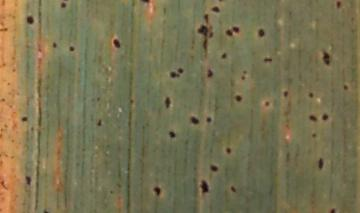tarspot: (197, 22, 208, 57), (199, 178, 209, 194), (111, 36, 122, 50), (322, 48, 330, 65), (163, 95, 171, 110), (190, 115, 200, 126), (152, 185, 161, 197), (167, 129, 177, 139), (233, 93, 243, 103), (24, 175, 33, 186), (208, 163, 219, 172), (223, 28, 234, 37), (318, 156, 325, 170), (26, 15, 35, 25), (257, 28, 266, 38), (308, 113, 318, 122), (206, 68, 214, 77), (231, 25, 240, 33), (138, 1, 152, 6), (211, 6, 221, 13), (204, 11, 209, 24), (205, 115, 213, 123), (263, 56, 272, 63), (60, 1, 67, 9), (21, 115, 28, 123), (96, 118, 103, 126), (225, 147, 233, 154), (169, 71, 177, 78), (176, 67, 184, 74), (282, 90, 289, 98), (322, 113, 329, 121), (335, 1, 342, 9), (68, 45, 75, 52), (240, 74, 247, 81), (230, 185, 236, 193), (221, 50, 227, 58), (308, 91, 314, 99), (342, 83, 348, 91), (42, 208, 51, 213), (52, 42, 58, 49), (264, 100, 270, 107), (128, 98, 134, 104), (330, 207, 336, 213), (209, 31, 214, 38), (312, 132, 317, 139), (242, 69, 247, 75)
